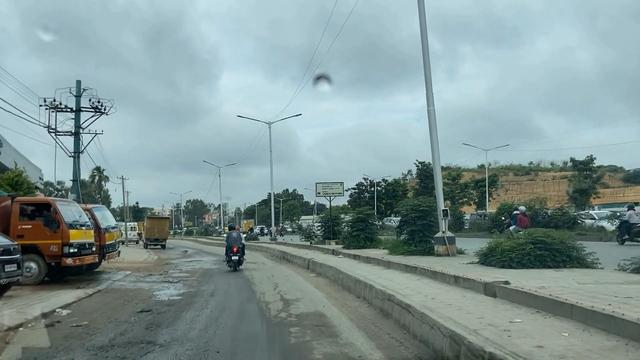LMV: (223, 221, 248, 271)
RoadDamages: (87, 332, 182, 360)
